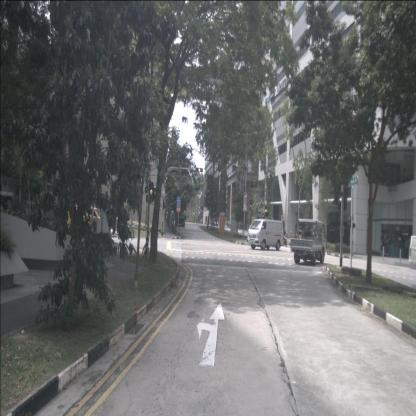vehicle-bicycle: (141, 225, 153, 261)
vehicle-car: (63, 206, 105, 237), (247, 220, 283, 251)
vehicle-motorcycle: (282, 228, 288, 248)
vehicle-truck: (290, 218, 326, 264), (175, 205, 186, 228)
